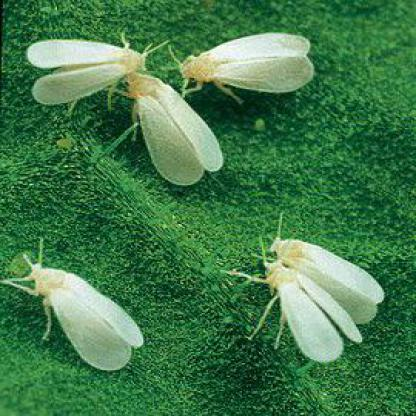whitefly: (31, 267, 142, 372), (127, 75, 226, 185), (264, 264, 360, 362), (24, 37, 149, 106), (184, 31, 316, 91)
